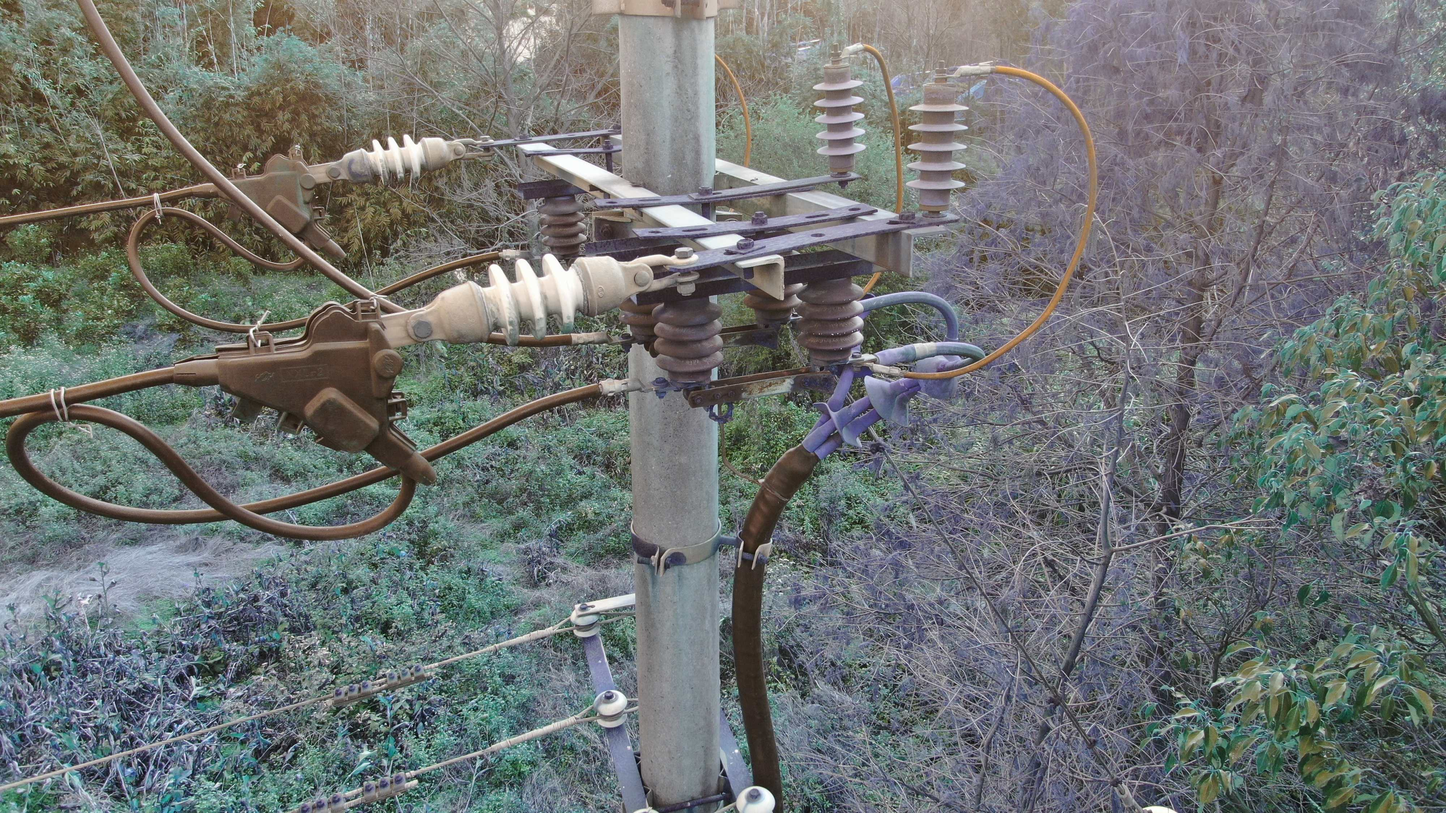severe_soiling_no_discharge_whole: (425, 249, 628, 352), (342, 129, 452, 189), (591, 687, 631, 732)
